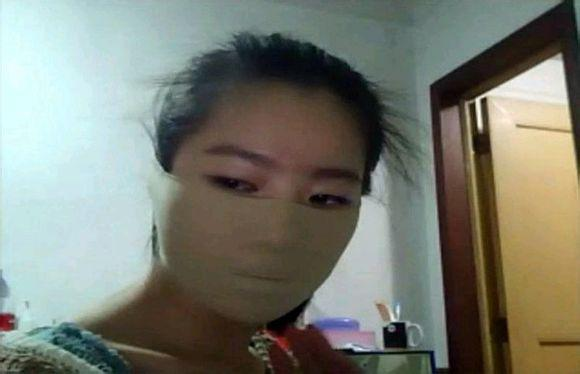OK: (179, 140, 359, 315)
